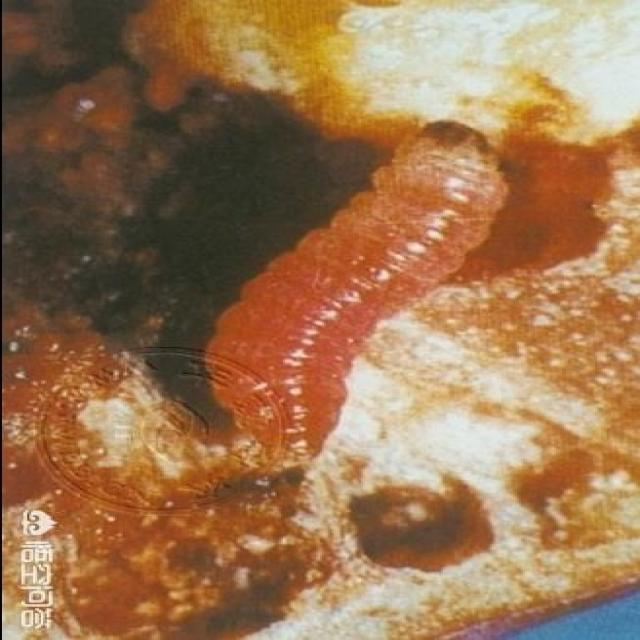peach borer: (205, 129, 515, 487)
